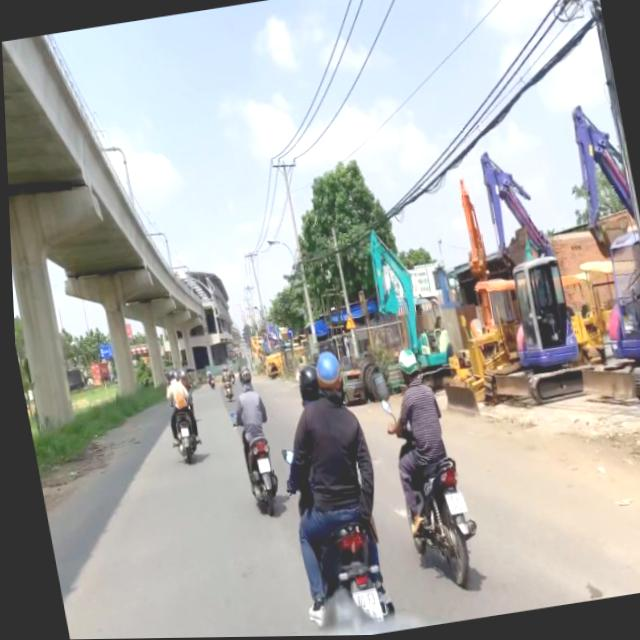Cac xe chi duoc re trai: (284, 329, 292, 340)
cho ngoat nguy hiem vong ben trai: (340, 313, 354, 332)
